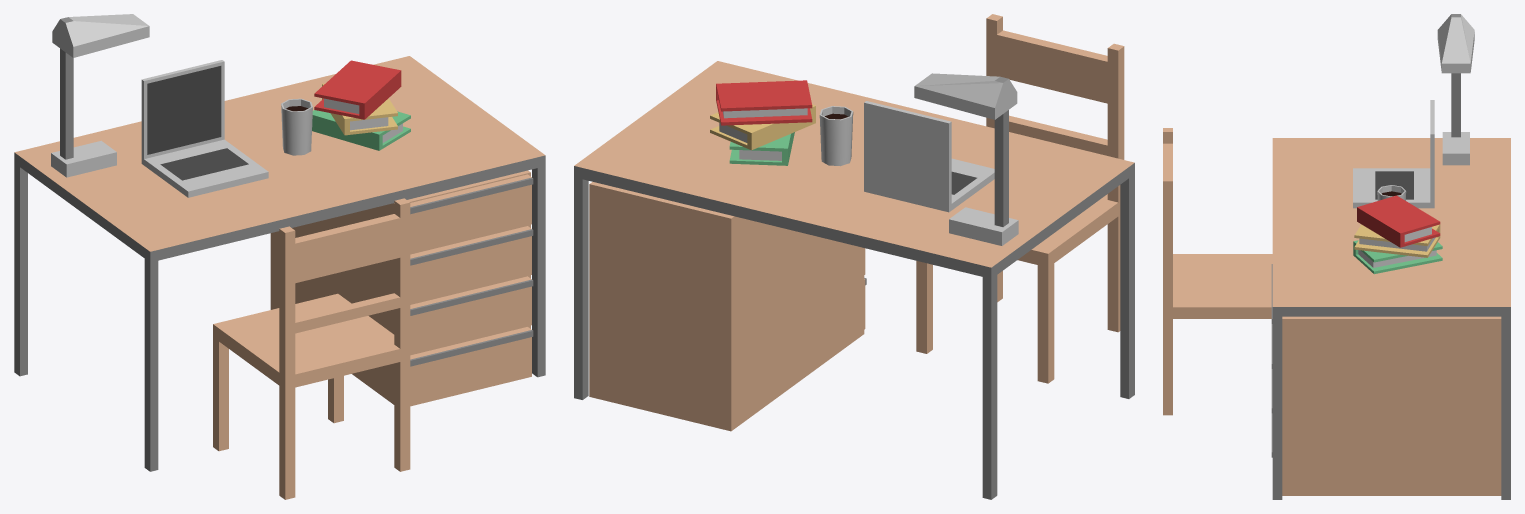
Rendered from desk.FBX.
The picture shows the model from 3 angles, left to right: view 1: azimuth 30°, elevation 25°; view 2: azimuth 150°, elevation 25°; view 3: azimuth 270°, elevation 25°; orthographic projection. The views are drawn at different scales.
Visible parts, largest first — view 1: Desk; view 2: Desk; view 3: Desk.
Part boxes in pixels (box(x1,y1,x2,y2)): Desk: box(14, 14, 545, 499); Desk: box(574, 14, 1134, 499); Desk: box(1163, 14, 1510, 499).
Size of the model in its own units: 16.98 by 15.18 by 14.76.
